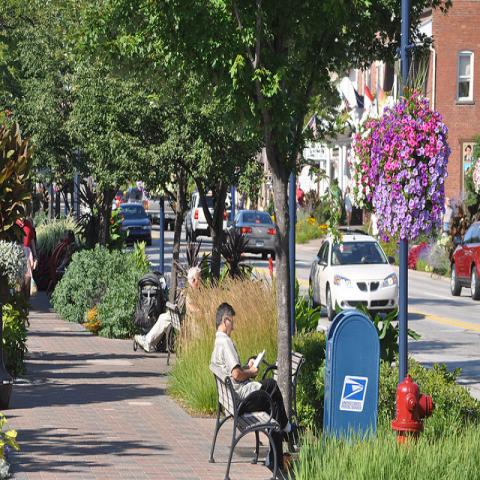car: (308, 234, 399, 322), (448, 220, 480, 302), (229, 209, 275, 260), (118, 203, 152, 245), (112, 189, 124, 208)
truck: (183, 192, 228, 244), (121, 187, 176, 222)
